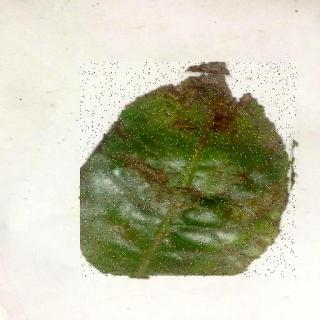Red Leaf Spot: (82, 64, 299, 279)
